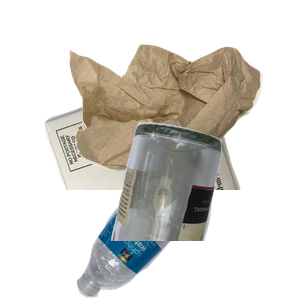glass: (109, 120, 300, 300)
paper: (42, 68, 275, 248)
plastic: (74, 156, 280, 300)
trash: (67, 42, 300, 206)
